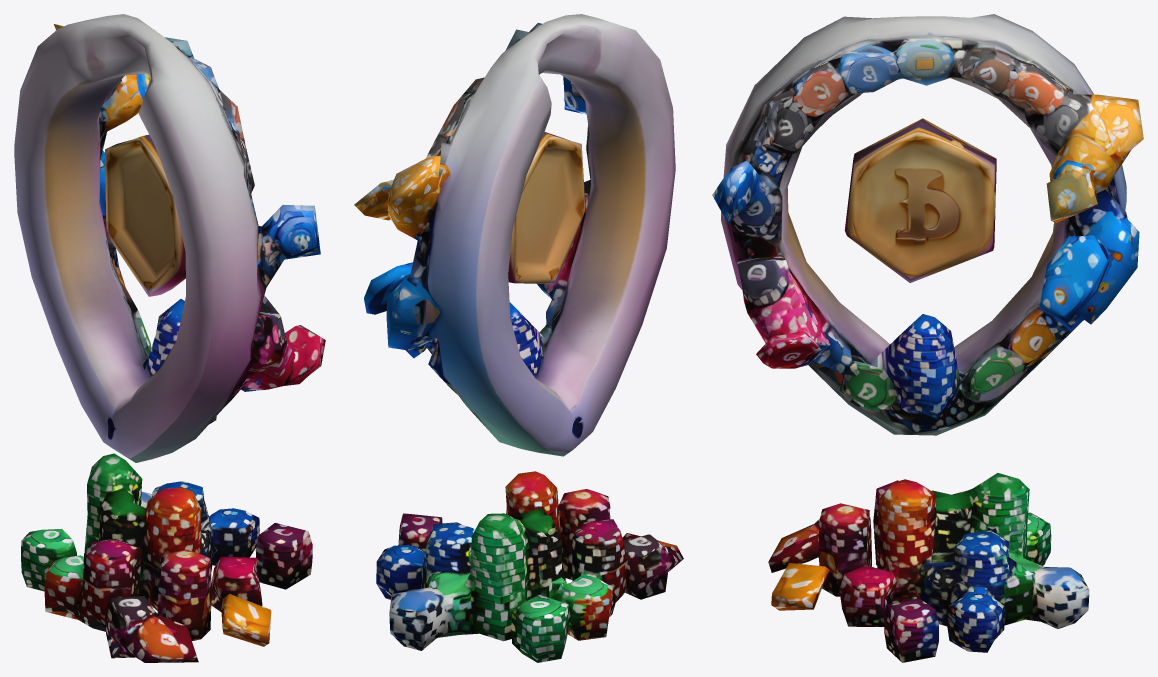
Rendered from fichas+de+casino+3d.fbx.
3 views of the same model, side by side, from view 1: azimuth 30°, elevation 25°; view 2: azimuth 150°, elevation 25°; view 3: azimuth 270°, elevation 25° (orthographic).
Parts seen in each view (by area): view 1: tripo_node_08c0c954; view 2: tripo_node_08c0c954; view 3: tripo_node_08c0c954.
Part boxes in pixels (left/top/right/bottom): tripo_node_08c0c954: left=14, top=14, right=325, bottom=662; tripo_node_08c0c954: left=354, top=14, right=683, bottom=662; tripo_node_08c0c954: left=712, top=14, right=1143, bottom=662.
Bounding box in the file's own units: 0.4325 × 0.9973 × 0.6793.
Materials: 1 (1 with a texture image).
